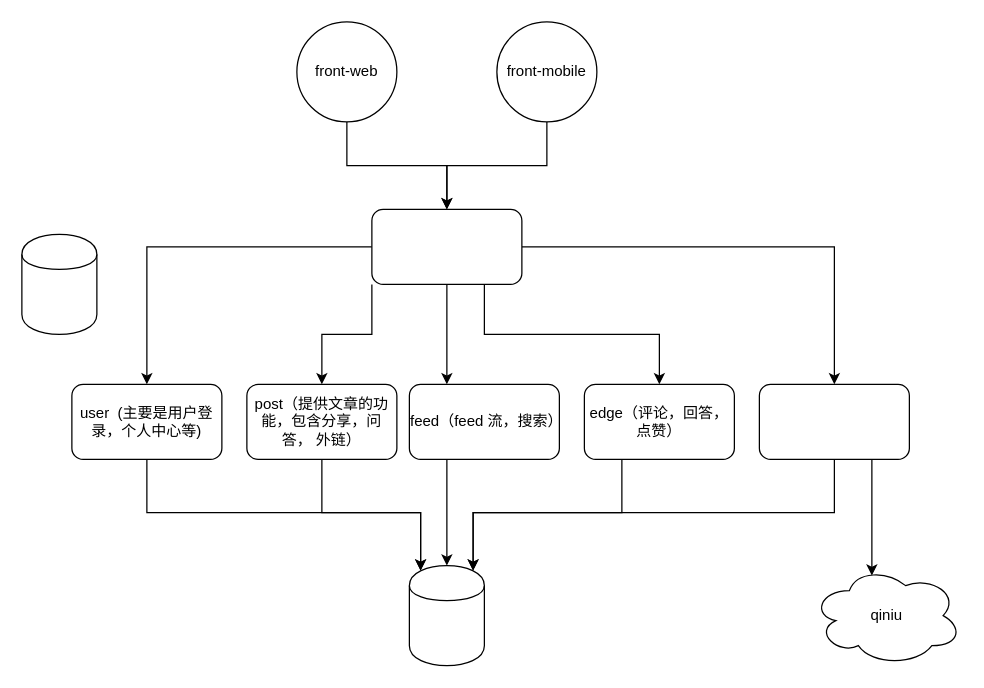
This 984x688 diagram has some shape labels left out. The box of each missing label's shape, as (x1, y1, x2, y2) in pixels:
db: (408, 564, 484, 666)
file-storage （文件存储）: (758, 383, 909, 459)
gateway (路由): (371, 208, 522, 284)
redis: (21, 233, 97, 334)
